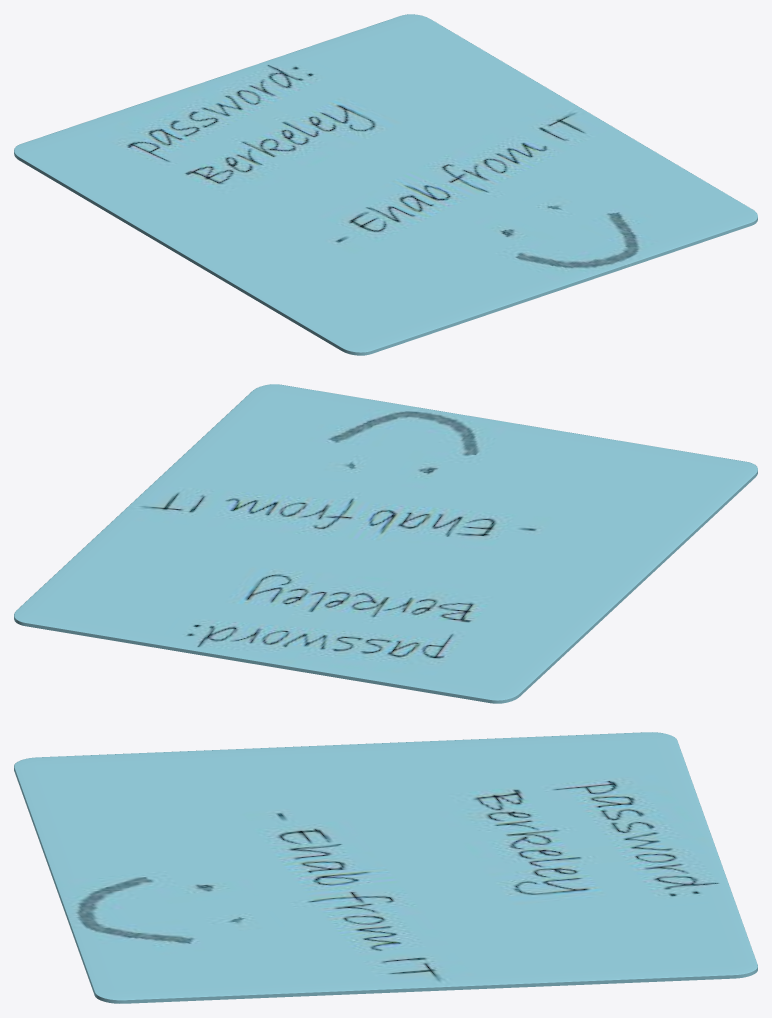
Rendered from stickynote.glb.
3 renders of one model, top to bottom at view 1: azimuth 30°, elevation 25°; view 2: azimuth 150°, elevation 25°; view 3: azimuth 270°, elevation 25°, orthographic. The views are drawn at different scales.
Parts seen in each view (by area): view 1: Box; view 2: Box; view 3: Box.
Part boxes in pixels (left/top/right/bottom): Box: left=14, top=14, right=757, bottom=355; Box: left=14, top=384, right=757, bottom=703; Box: left=14, top=732, right=757, bottom=1003.
Size of the model in its own units: 0.1092 by 0.000847 by 0.128.
Materials: 1 (1 with a texture image).
